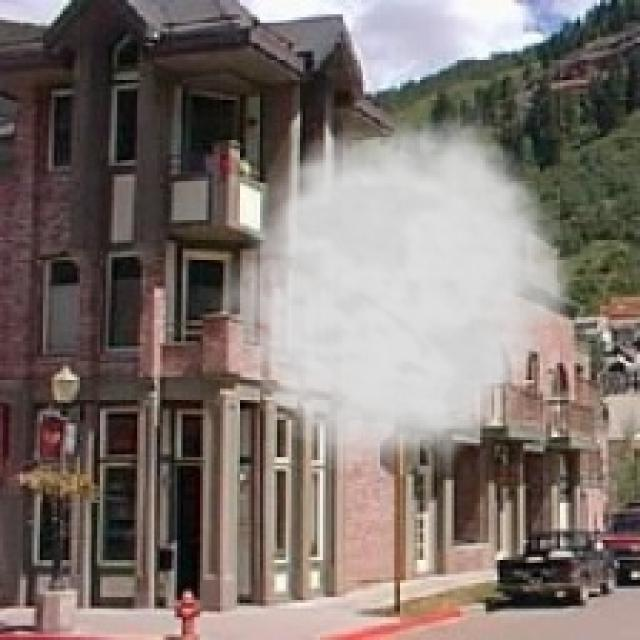smoke: (208, 100, 583, 477)
